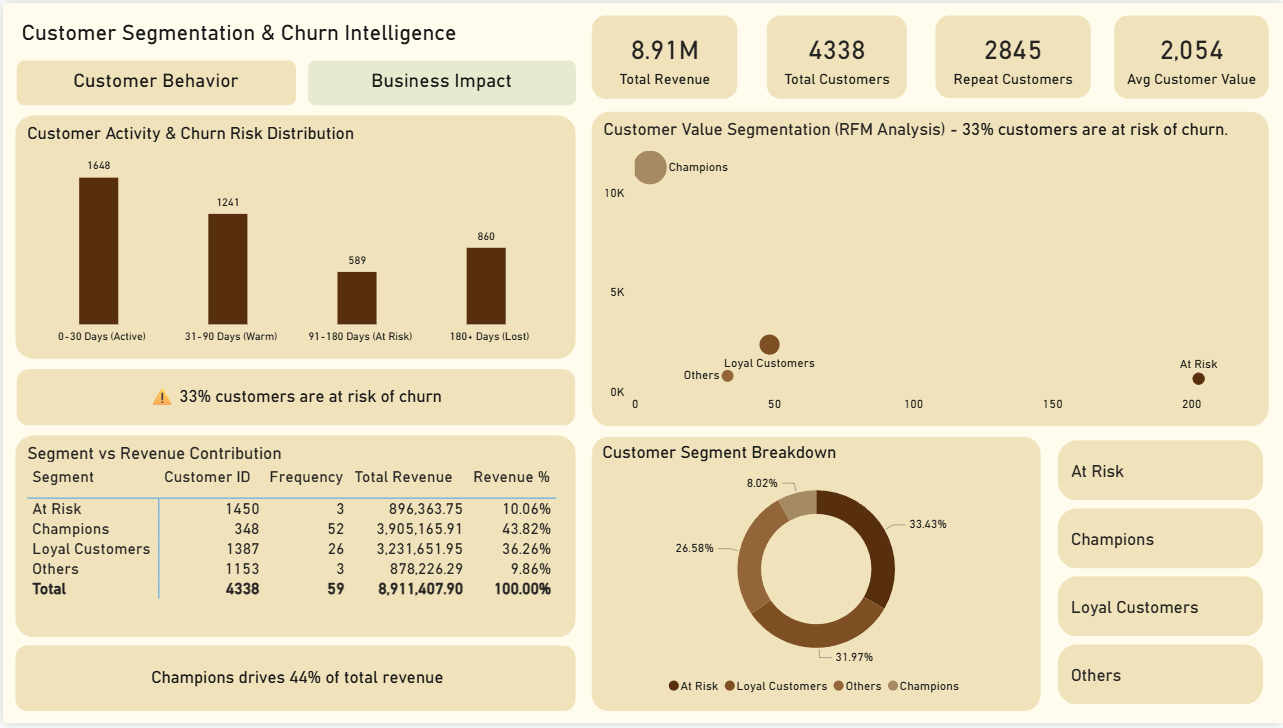

The dashboard page shown, as its layout file describes it:
{"tool":"powerbi","page":{"name":"Dashboard","canvas":[1280,720],"ordinal":0},"visuals":[{"type":"textbox","box":[13.9,57.2,278.9,44.6],"z":0},{"type":"donutChart","title":"Customer Segment Breakdown","fields":{"Category":["customer_segmentation.Segment"],"Y":["Count(customer_segmentation.CustomerID)"]},"box":[588.6,434.3,448.6,274.3],"z":0,"group":"g1"},{"type":"textbox","box":[305.4,57.2,267.7,44.6],"z":1000},{"type":"scatterChart","title":"Customer Value Segmentation (RFM Analysis) -","fields":{"X":["Avg(customer_segmentation.Recency)"],"Size":["Avg(customer_segmentation.Frequency)"],"Series":["customer_segmentation.Segment"],"Y":["Avg(customer_segmentation.Monetary)"]},"box":[588.6,108.6,677.1,314.3],"z":1000,"group":"g1"},{"type":"group","id":"g1","title":"CustomerView","box":[12.9,12.9,1252.9,695.7],"z":2000},{"type":"card","fields":{"Values":["_Measures.Total Revenue"]},"box":[588.6,12.9,145.7,82.9],"z":2000,"group":"g1"},{"type":"card","fields":{"Values":["_Measures.Churn Insight"]},"box":[947.2,111.5,287.1,25.7],"z":3000,"group":"g1"},{"type":"card","fields":{"Values":["_Measures.Total Customers"]},"box":[764.3,12.9,140,82.9],"z":4000,"group":"g1"},{"type":"actionButton","box":[12.5,57.2,280.3,47.4],"z":4000},{"type":"card","fields":{"Values":["_Measures.Repeat Customers"]},"box":[932.9,12.9,155,82.5],"z":5000,"group":"g1"},{"type":"actionButton","box":[305.4,54.4,267.7,47.4],"z":5000},{"type":"card","fields":{"Values":["_Measures.Avg Customer Value"]},"box":[1111.5,12.9,154.3,82.9],"z":6000,"group":"g1"},{"type":"clusteredColumnChart","title":"Customer Activity & Churn Risk Distribution","fields":{"Y":["CountNonNull(customer_segmentation.CustomerID)"],"Category":["customer_segmentation.Recency Bucket"]},"box":[12.9,112.5,560,242.9],"z":7000,"group":"g1"},{"type":"card","fields":{"Values":["_Measures.Churn Insight Detailed"]},"box":[14.3,367.2,558.6,55.7],"z":8000,"group":"g1"},{"type":"advancedSlicerVisual","fields":{"Values":["customer_segmentation.Segment"]},"box":[1050,432.9,215.7,275.7],"z":9000,"group":"g1"},{"type":"pivotTable","title":"Segment vs Revenue Contribution","fields":{"Rows":["customer_segmentation.Segment"],"Values":["Count(customer_segmentation.CustomerID)","Count(customer_segmentation.Frequency)","_Measures.Total Revenue","_Measures.Revenue % by Segment"]},"box":[12.9,432.9,560,201.4],"z":10000,"group":"g1"},{"type":"card","fields":{"Values":["_Measures.Segment Revenue Insight"]},"box":[12.9,642.9,560,65.7],"z":11000,"group":"g1"},{"type":"textbox","box":[14.3,12.9,504.3,41.4],"z":12000,"group":"g1"}]}

Visuals, with their boxes in screenshot pixels (x1, y1, x2, y2), scaled from the page's 1280x720 canvas onto the 1283x728 screenshot:
textbox: {"x1": 14, "y1": 58, "x2": 293, "y2": 103}
"Customer Segment Breakdown" donutChart: {"x1": 590, "y1": 439, "x2": 1040, "y2": 716}
textbox: {"x1": 306, "y1": 58, "x2": 574, "y2": 103}
"Customer Value Segmentation (RFM Analysis) -" scatterChart: {"x1": 590, "y1": 110, "x2": 1269, "y2": 428}
"CustomerView" group: {"x1": 13, "y1": 13, "x2": 1269, "y2": 716}
card - _Measures.Total Revenue: {"x1": 590, "y1": 13, "x2": 736, "y2": 97}
card - _Measures.Churn Insight: {"x1": 949, "y1": 113, "x2": 1237, "y2": 139}
card - _Measures.Total Customers: {"x1": 766, "y1": 13, "x2": 906, "y2": 97}
actionButton: {"x1": 13, "y1": 58, "x2": 293, "y2": 106}
card - _Measures.Repeat Customers: {"x1": 935, "y1": 13, "x2": 1090, "y2": 96}
actionButton: {"x1": 306, "y1": 55, "x2": 574, "y2": 103}
card - _Measures.Avg Customer Value: {"x1": 1114, "y1": 13, "x2": 1269, "y2": 97}
"Customer Activity & Churn Risk Distribution" clusteredColumnChart: {"x1": 13, "y1": 114, "x2": 574, "y2": 359}
card - _Measures.Churn Insight Detailed: {"x1": 14, "y1": 371, "x2": 574, "y2": 428}
advancedSlicerVisual - customer_segmentation.Segment: {"x1": 1052, "y1": 438, "x2": 1269, "y2": 716}
"Segment vs Revenue Contribution" pivotTable: {"x1": 13, "y1": 438, "x2": 574, "y2": 641}
card - _Measures.Segment Revenue Insight: {"x1": 13, "y1": 650, "x2": 574, "y2": 716}
textbox: {"x1": 14, "y1": 13, "x2": 520, "y2": 55}
